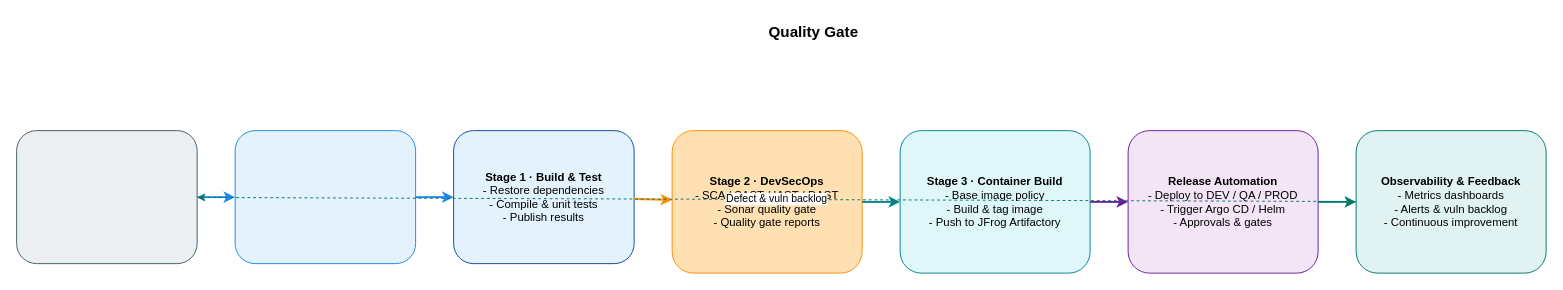
The diagram is 1563 pixels wide and 290 high, and some of its shapes have lost their labels. The centre of each missing label's shape, as x and y in pixels:
Azure Repos - Git branches - PR policies - Pipeline trigger: point (325, 197)
Developer Access - On-prem Postman / CLI - SAML SSO to Argo CD: point (106, 197)
